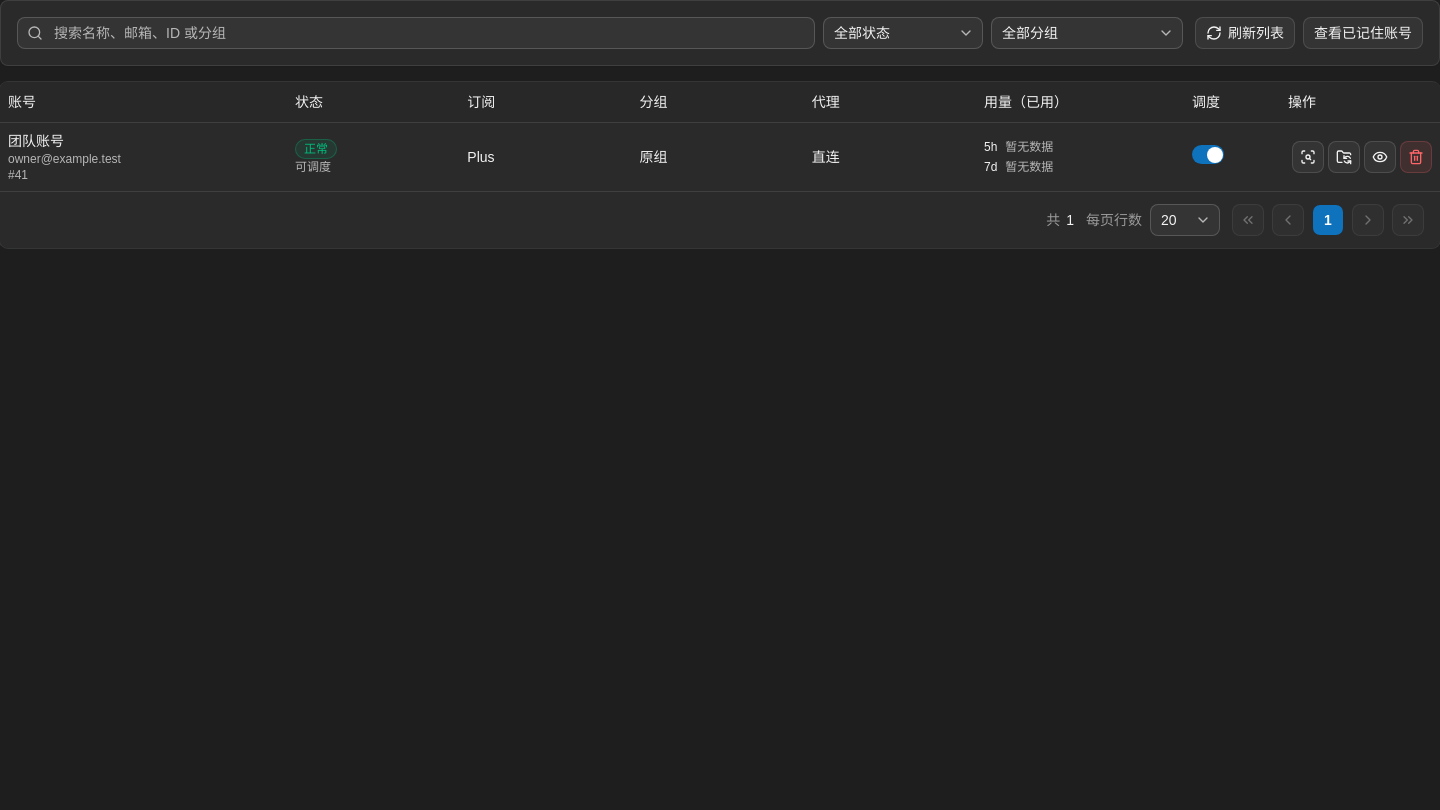
it: 操作列打开移动分组，确认替换后等待任务完成并刷新账号分组
Click the button named "移动 团队账号 分组".
click(1344, 156)  # box [1328,140,1360,172]
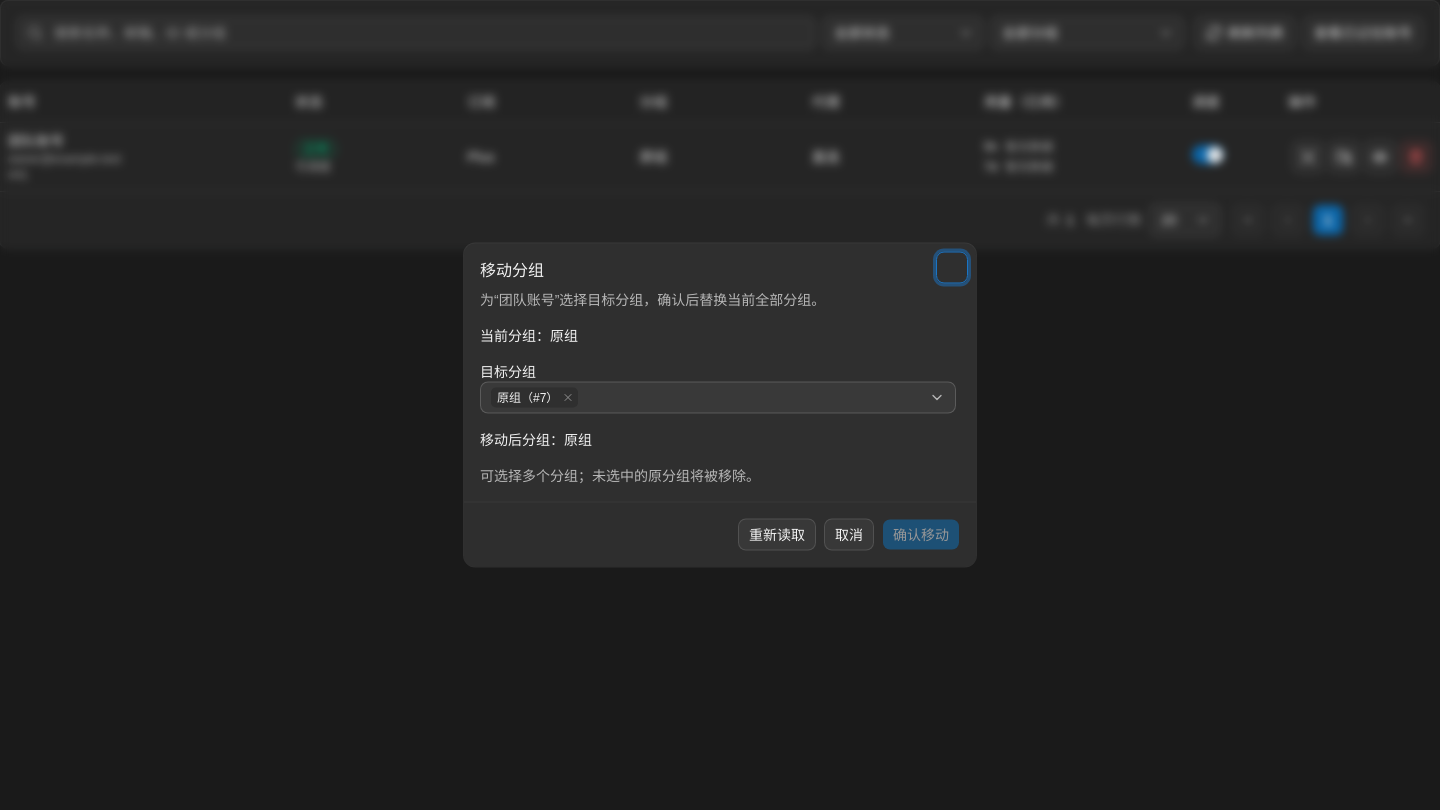
Expected: the button "确认移动" is disabled, [882,518,960,550]
Click the dropdown named "目标分组".
click(718, 398)  # box [480,382,956,414]
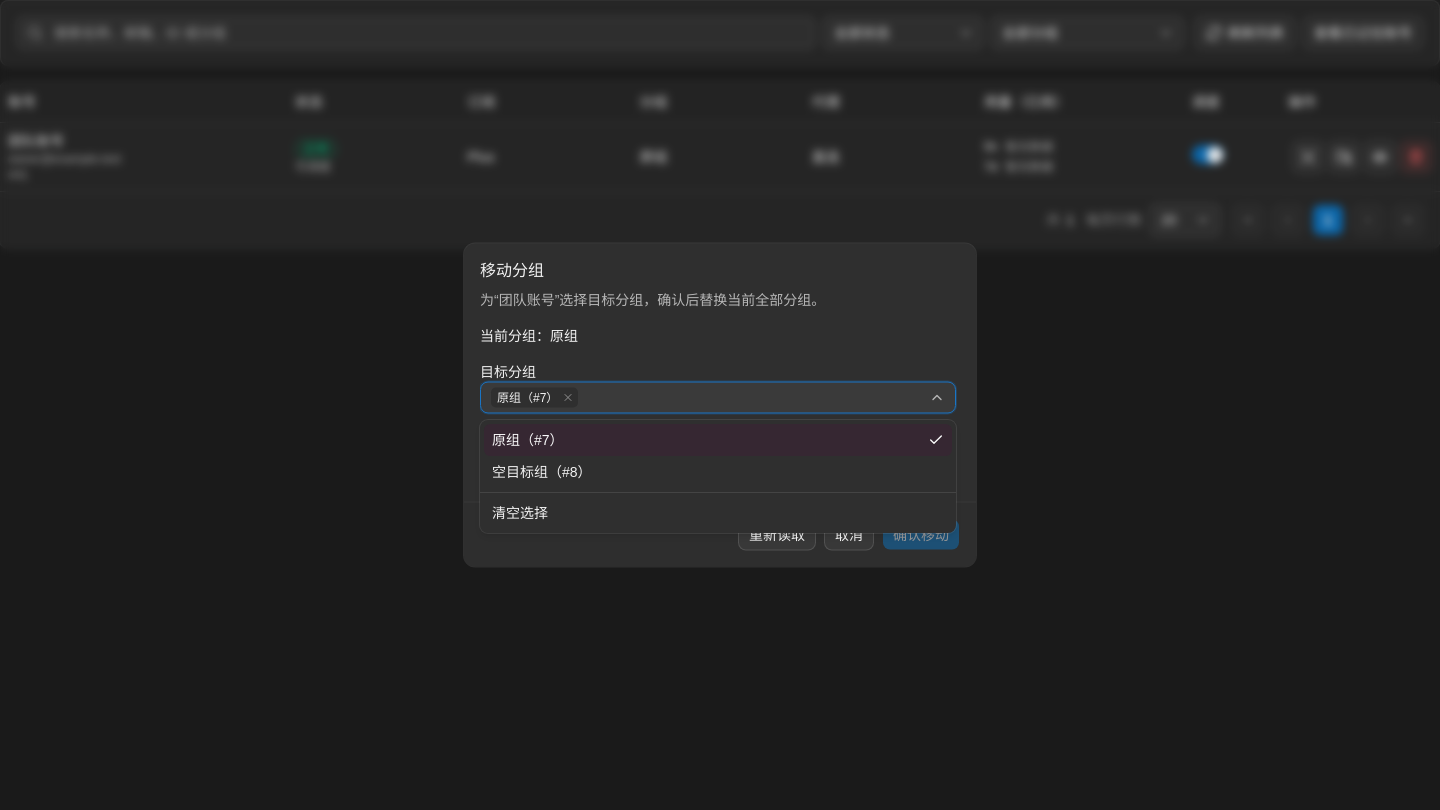
Click the option "原组（#7）".
click(528, 440)  # box [484,424,952,456]
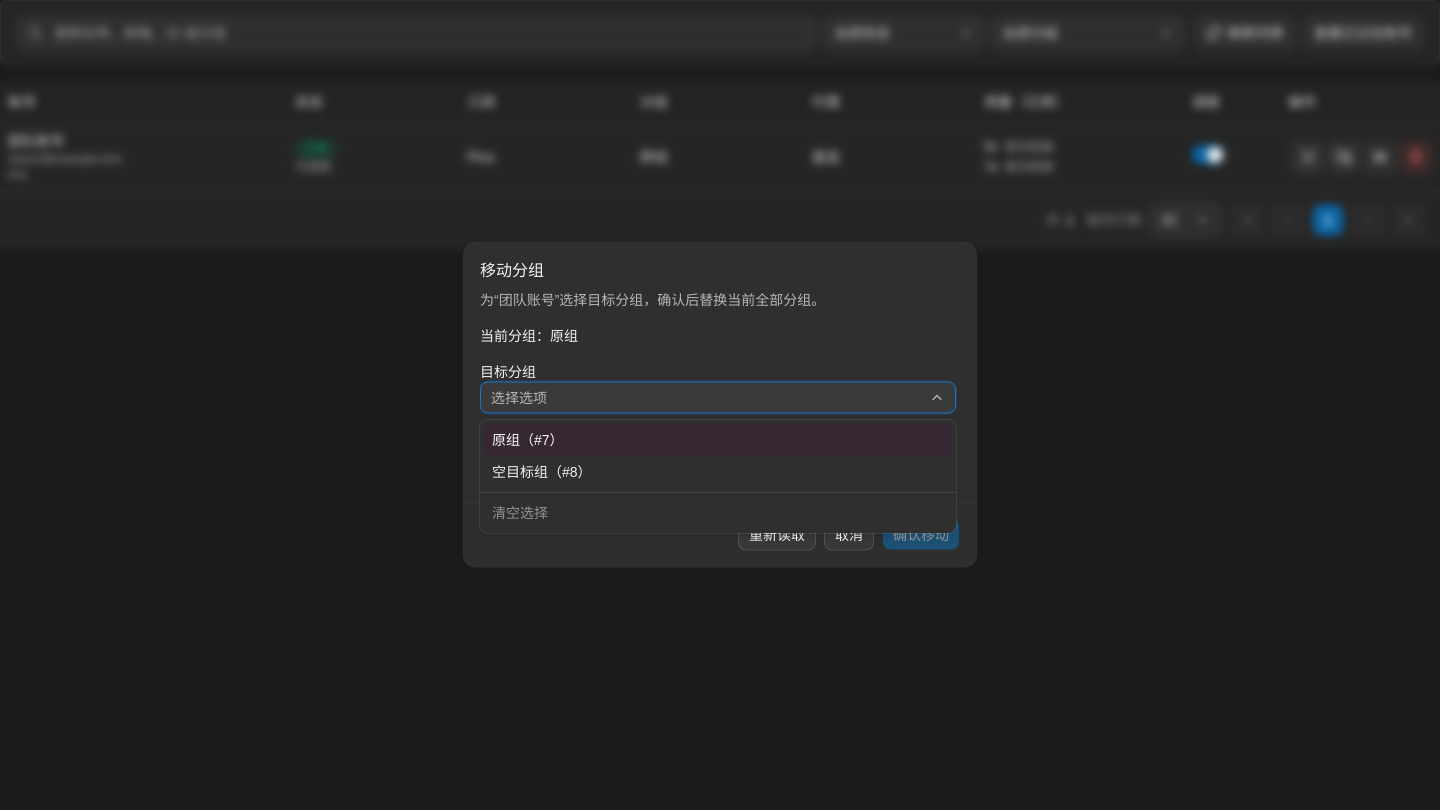
Click the option "空目标组（#8）".
click(542, 472)  # box [492,464,592,480]
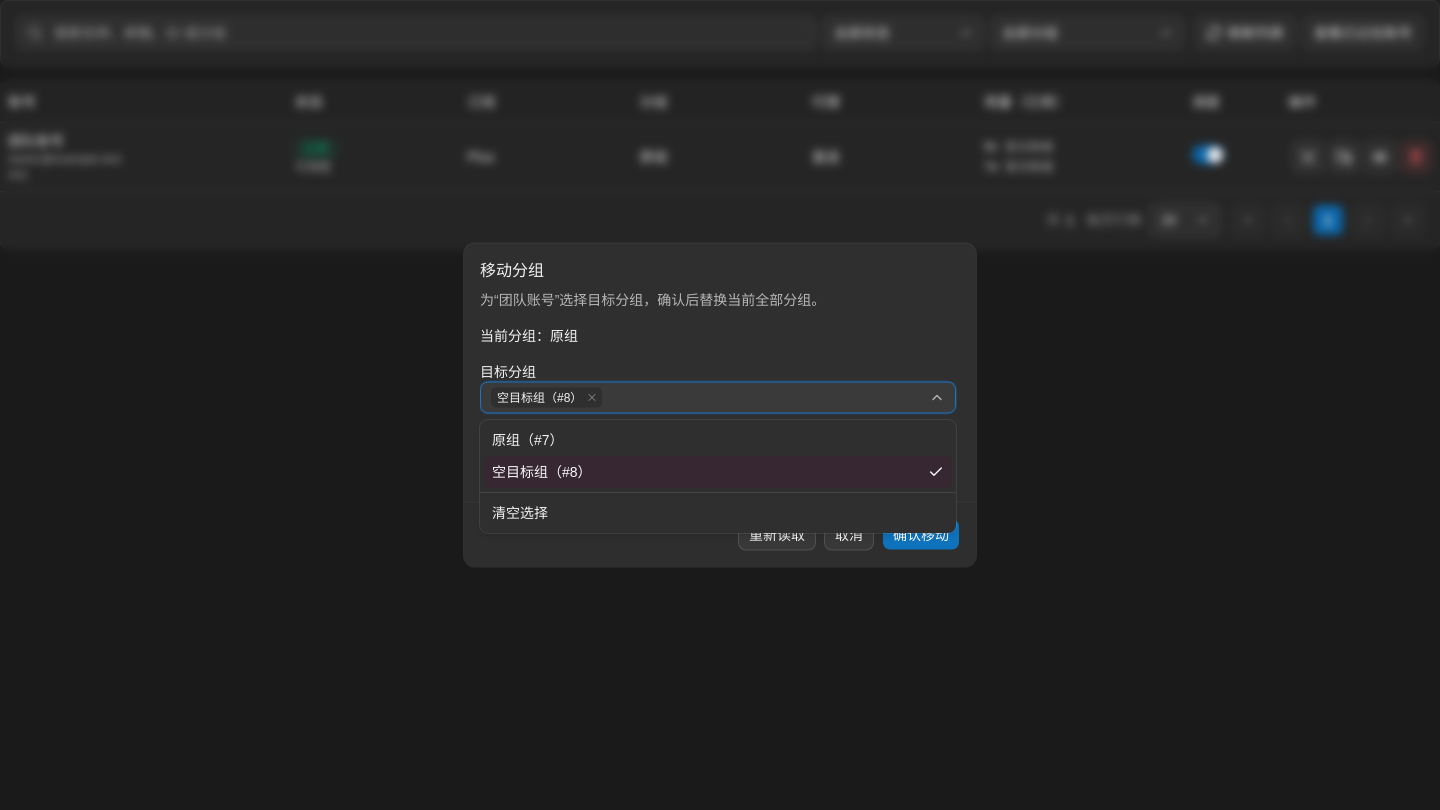
Expected: the option "空目标组（#8）" is selected, [484,456,952,488]
Press Escape
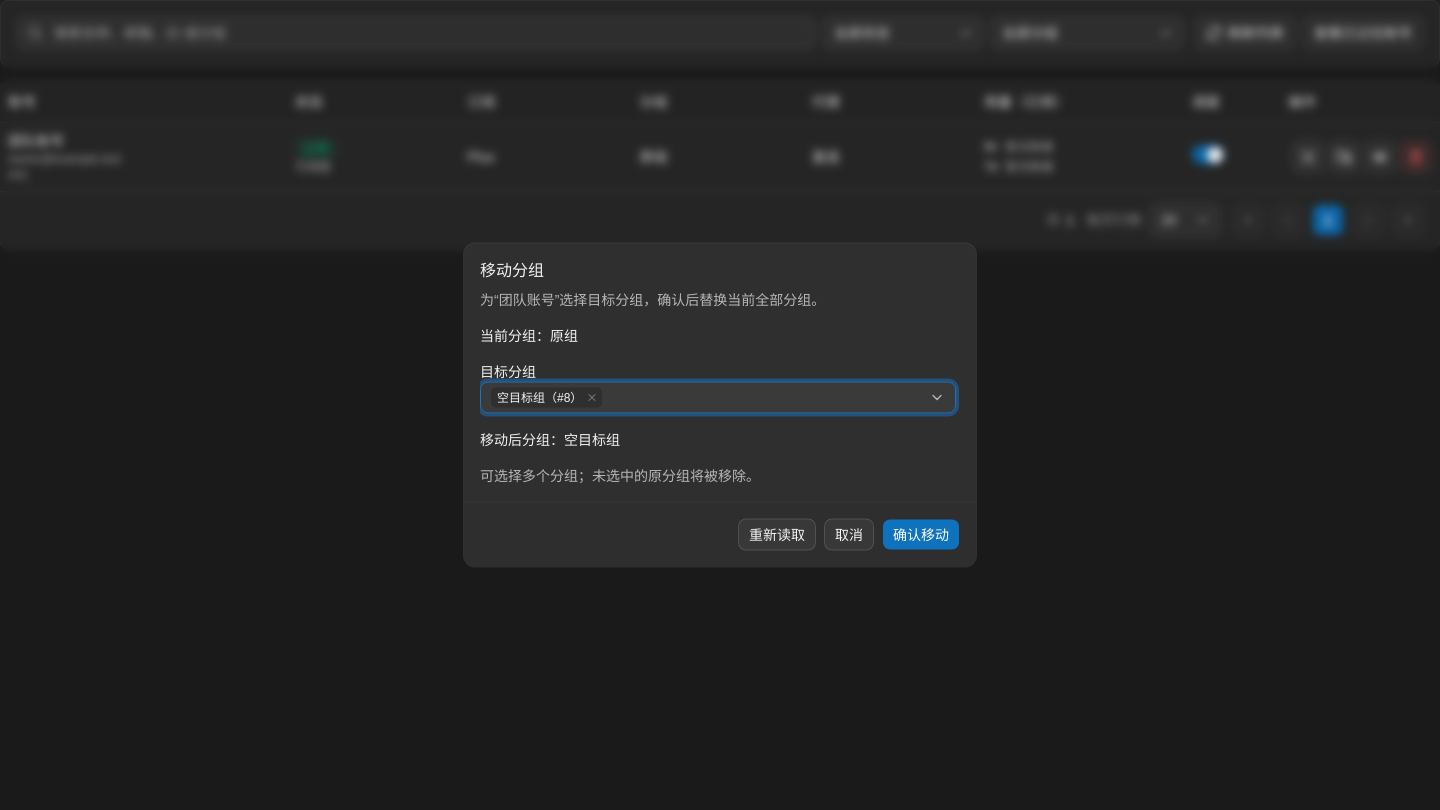
Expected: the text "移动后分组：空目标组" is shown, [480,432,620,448]
Click the button "确认移动".
click(921, 534)  # box [882,518,960,550]
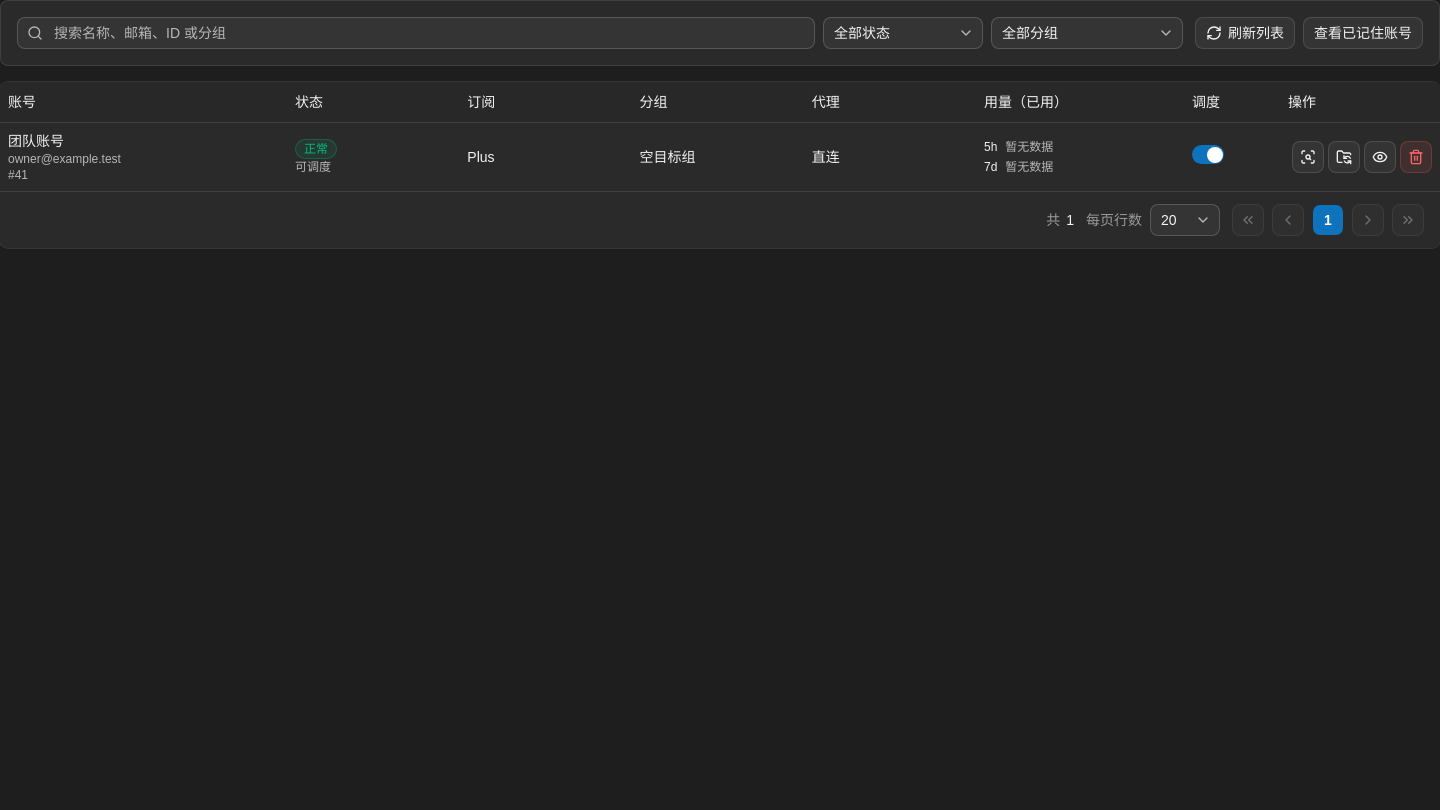
Expected: the dialog is gone
Expected: the text "空目标组" is shown, [632,122,804,190]
